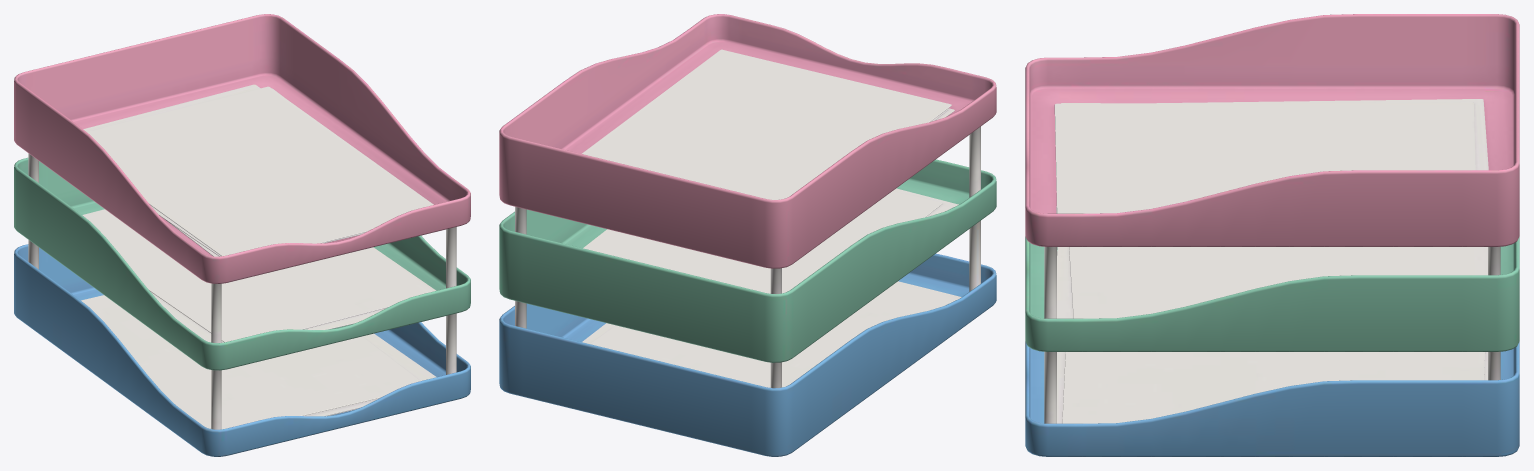
File: document-tray.glb
3 views of the same model, side by side, from view 1: azimuth 30°, elevation 25°; view 2: azimuth 150°, elevation 25°; view 3: azimuth 270°, elevation 25° (orthographic). The views are drawn at different scales.
Parts seen in each view (by area): view 1: document-tray_body; view 2: document-tray_body; view 3: document-tray_body.
Part boxes in pixels (bbox=[...]): document-tray_body: bbox=[14, 14, 470, 456]; document-tray_body: bbox=[499, 14, 996, 456]; document-tray_body: bbox=[1025, 14, 1519, 456].
Bounding box in the file's own units: 0.265 × 0.224 × 0.35.
1 material, 1 textured.
